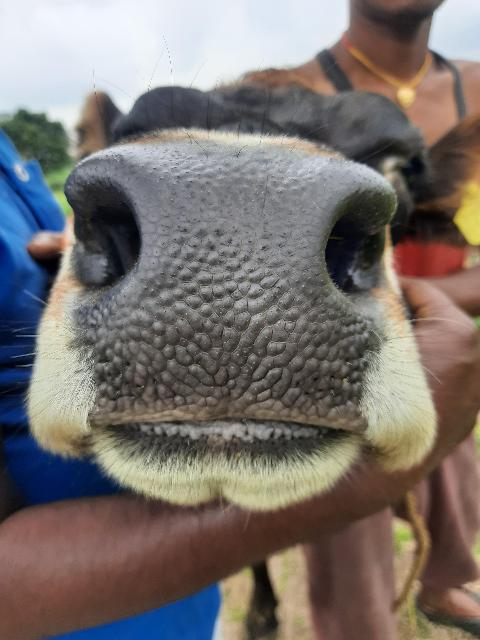Muzzle: (96, 150, 356, 430)
